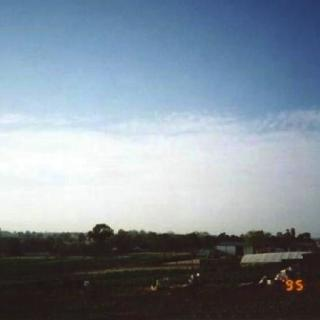Cirrocumulus: (0, 0, 320, 230)
